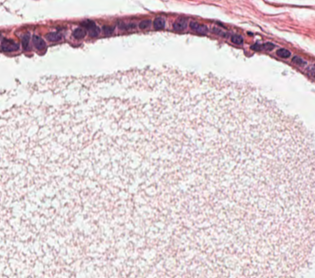nucleus: (190, 21, 207, 33), (32, 35, 45, 49), (173, 19, 186, 30), (153, 17, 164, 29), (73, 27, 85, 38), (82, 20, 95, 30), (276, 48, 290, 57), (46, 32, 61, 40), (231, 34, 242, 44), (292, 56, 305, 64), (89, 26, 99, 36), (139, 20, 150, 28), (103, 26, 113, 33), (264, 43, 273, 49), (251, 44, 260, 49)
